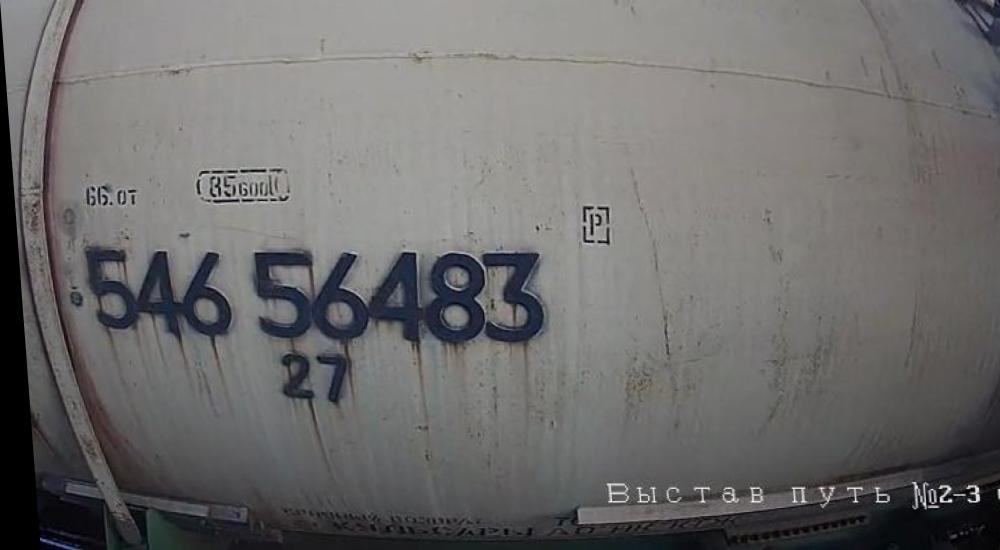Wagon-number: (76, 242, 551, 349)
